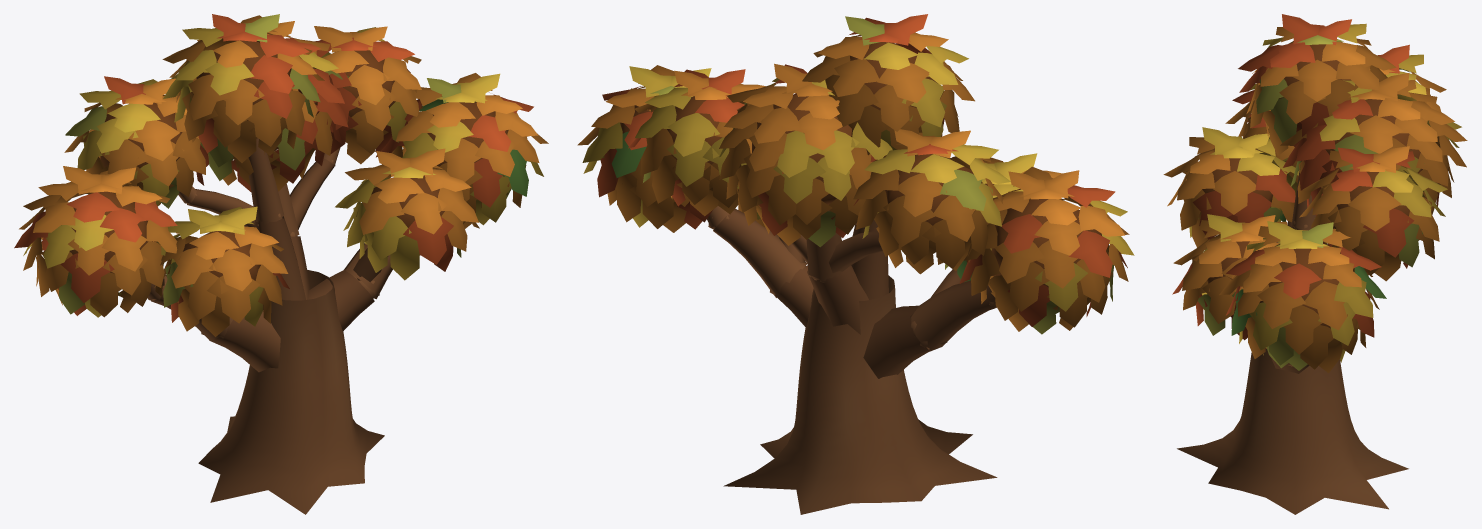
File: tree_old_fall_lod1.glb
3 renders of one model, left to right at view 1: azimuth 30°, elevation 25°; view 2: azimuth 150°, elevation 25°; view 3: azimuth 270°, elevation 25°, orthographic. The views are drawn at different scales.
Visible parts, largest first — view 1: tree_old_fall.001; view 2: tree_old_fall.001; view 3: tree_old_fall.001.
Boxes of the visible parts, x1=… form: tree_old_fall.001: x1=14, y1=14, x2=548, y2=514; tree_old_fall.001: x1=577, y1=14, x2=1134, y2=514; tree_old_fall.001: x1=1163, y1=14, x2=1467, y2=514.
Size of the model in its own units: 7.67 by 6.39 by 4.1.
